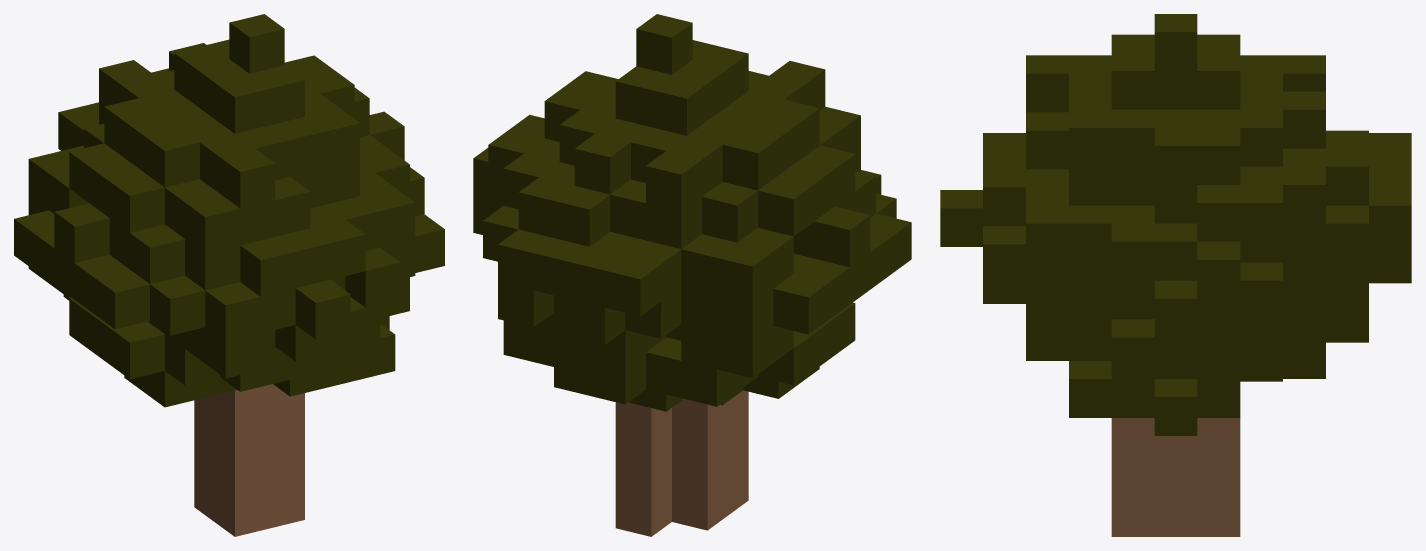
File: Arbol3.obj
3 views of the same model, side by side, from view 1: azimuth 30°, elevation 25°; view 2: azimuth 150°, elevation 25°; view 3: azimuth 270°, elevation 25° (orthographic). The views are drawn at different scales.
Bounding box in the file's own units: 10 × 13 × 11.
1 material, 1 textured.
